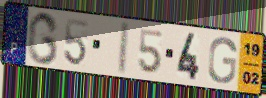4: (175, 32, 201, 82)
5: (63, 16, 90, 67), (136, 27, 164, 75)
G: (25, 10, 60, 66), (206, 36, 238, 86)
I: (115, 20, 132, 76)
